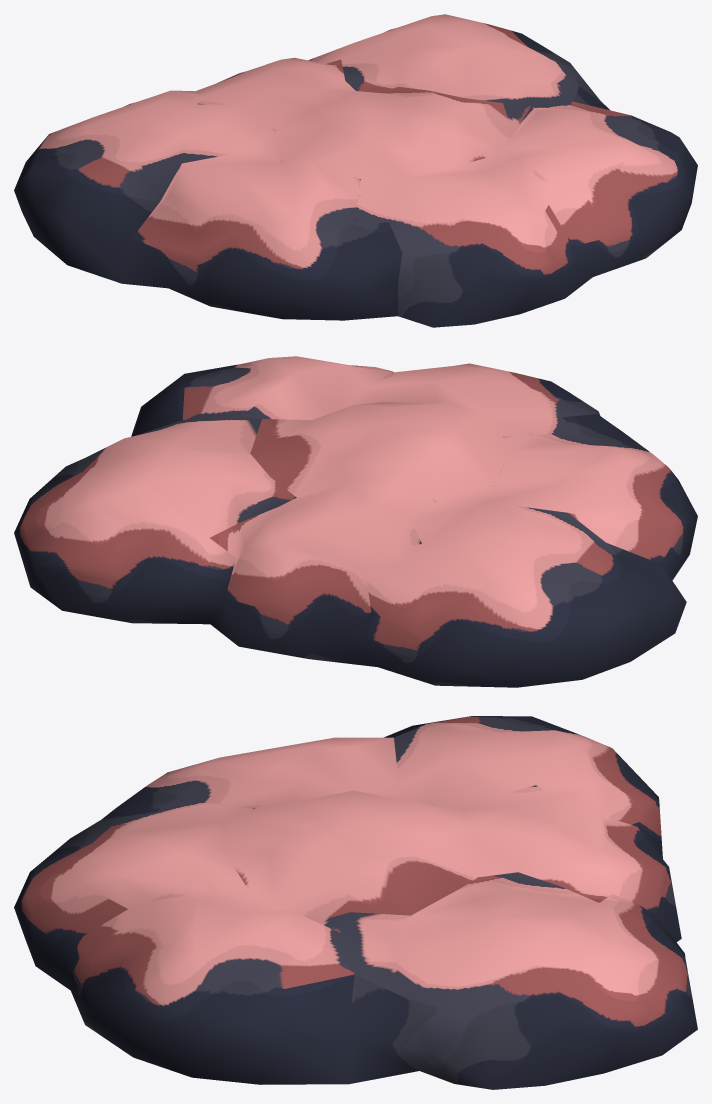
The model's file is Bubblegum Coral 4_preview_3DS_simplified.glb.
3 views of the same model, one above another, from view 1: azimuth 30°, elevation 25°; view 2: azimuth 150°, elevation 25°; view 3: azimuth 270°, elevation 25° (orthographic). The views are drawn at different scales.
Parts seen in each view (by area): view 1: Marine Park Empire model; view 2: Marine Park Empire model; view 3: Marine Park Empire model.
Part boxes in pixels (bbox=[...]): Marine Park Empire model: bbox=[14, 14, 697, 327]; Marine Park Empire model: bbox=[14, 356, 697, 687]; Marine Park Empire model: bbox=[14, 716, 697, 1089].
Bounding box in the file's own units: 123 × 21.45 × 111.
1 material, 1 textured.
